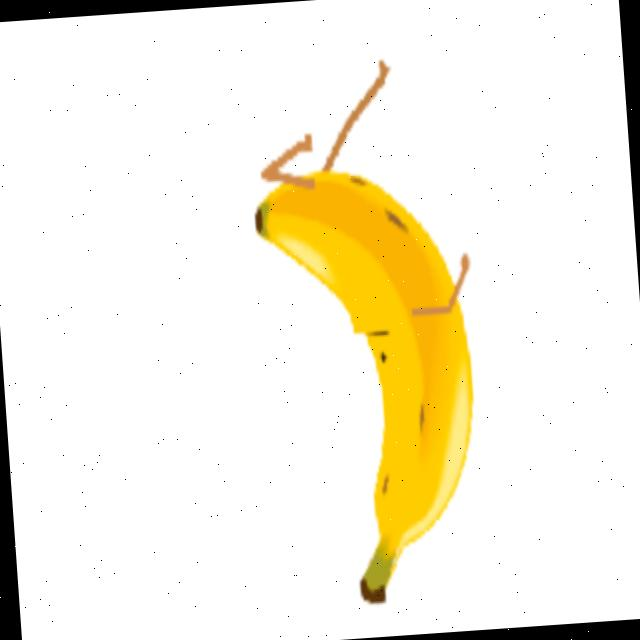Jeruk: (244, 57, 492, 614)
